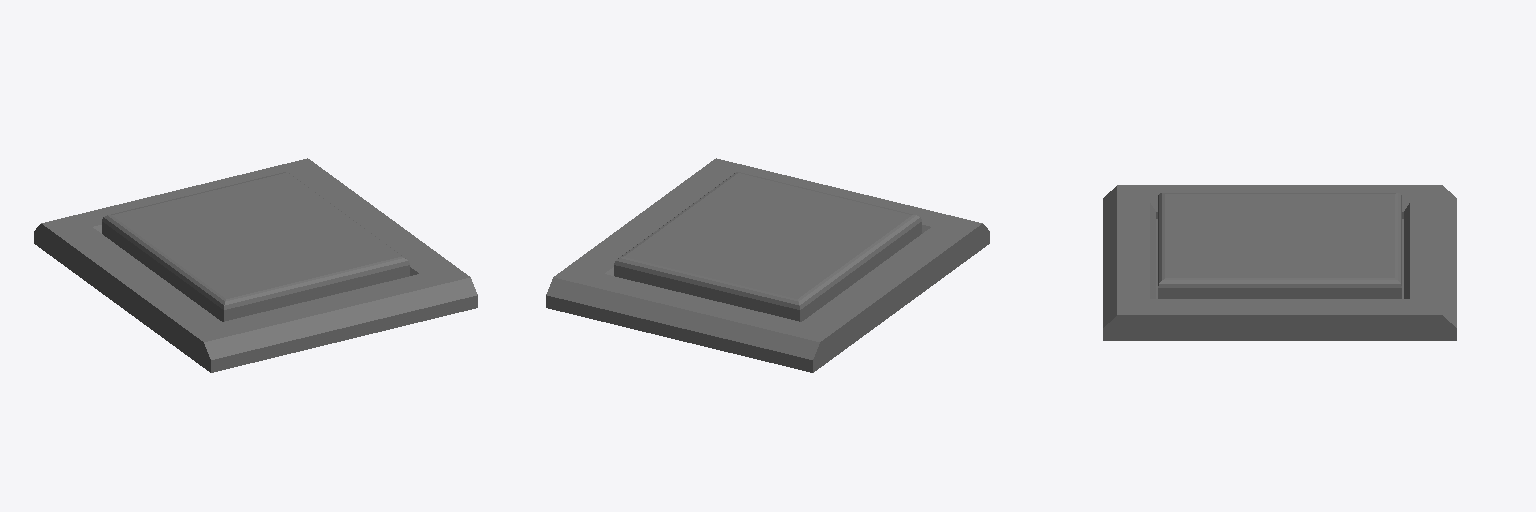
File: button.obj
The picture shows the model from 3 angles: view 1: azimuth 30°, elevation 25°; view 2: azimuth 150°, elevation 25°; view 3: azimuth 270°, elevation 25°; orthographic projection.
Visible parts, largest first — view 1: pCube1, pCube2; view 2: pCube1, pCube2; view 3: pCube1, pCube2.
Part boxes in pixels (left/top/right/bottom): pCube1: left=34, top=158, right=477, bottom=372; pCube2: left=102, top=172, right=409, bottom=321; pCube1: left=546, top=158, right=989, bottom=372; pCube2: left=614, top=172, right=921, bottom=321; pCube1: left=1103, top=185, right=1456, bottom=340; pCube2: left=1158, top=193, right=1401, bottom=298.
Bounding box in the file's own units: 1.82 × 0.259 × 2.09.